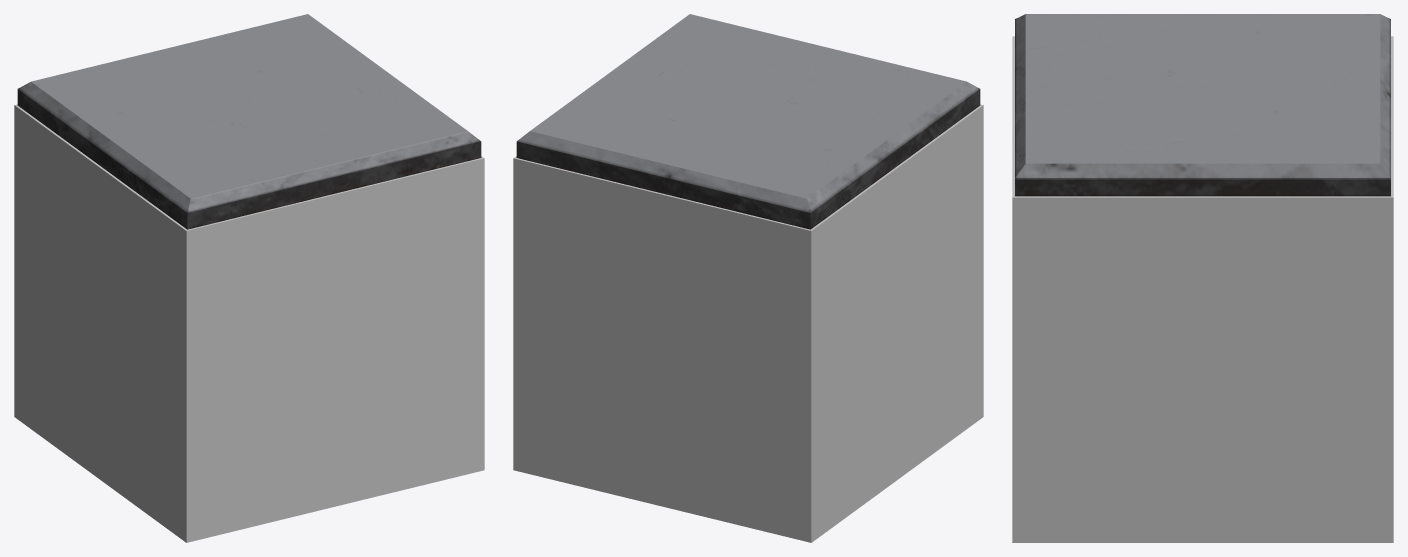
The model's file is FloorTile_Default.obj.
The picture shows the model from 3 angles, left to right: view 1: azimuth 30°, elevation 25°; view 2: azimuth 150°, elevation 25°; view 3: azimuth 270°, elevation 25°; orthographic projection. The views are drawn at different scales.
Visible parts, largest first — view 1: Cube_Cube.001; view 2: Cube_Cube.001; view 3: Cube_Cube.001.
Part boxes in pixels (x1,y1,x2,y2): Cube_Cube.001: (14,14,484,542); Cube_Cube.001: (513,14,983,542); Cube_Cube.001: (1012,14,1393,542).
Bounding box in the file's own units: 1 × 1.08 × 1.
